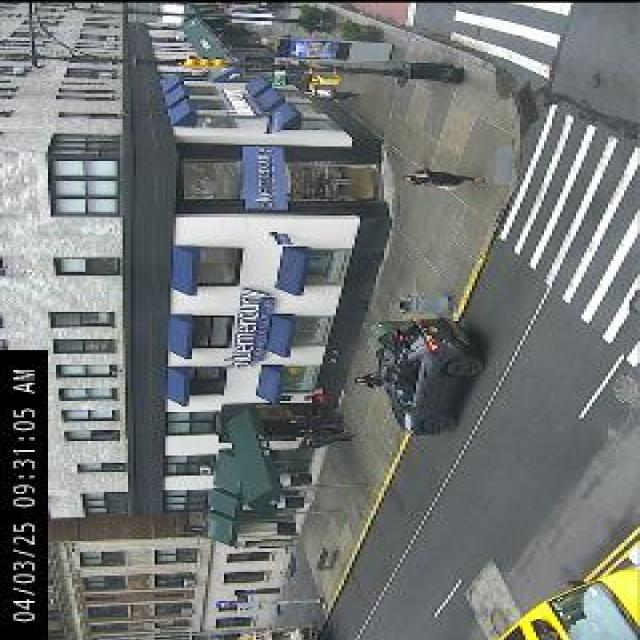open parking: (253, 308, 493, 620)
